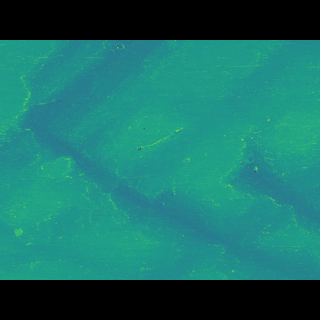Loch: (29, 132, 218, 219), (0, 70, 188, 151), (226, 100, 320, 220)
